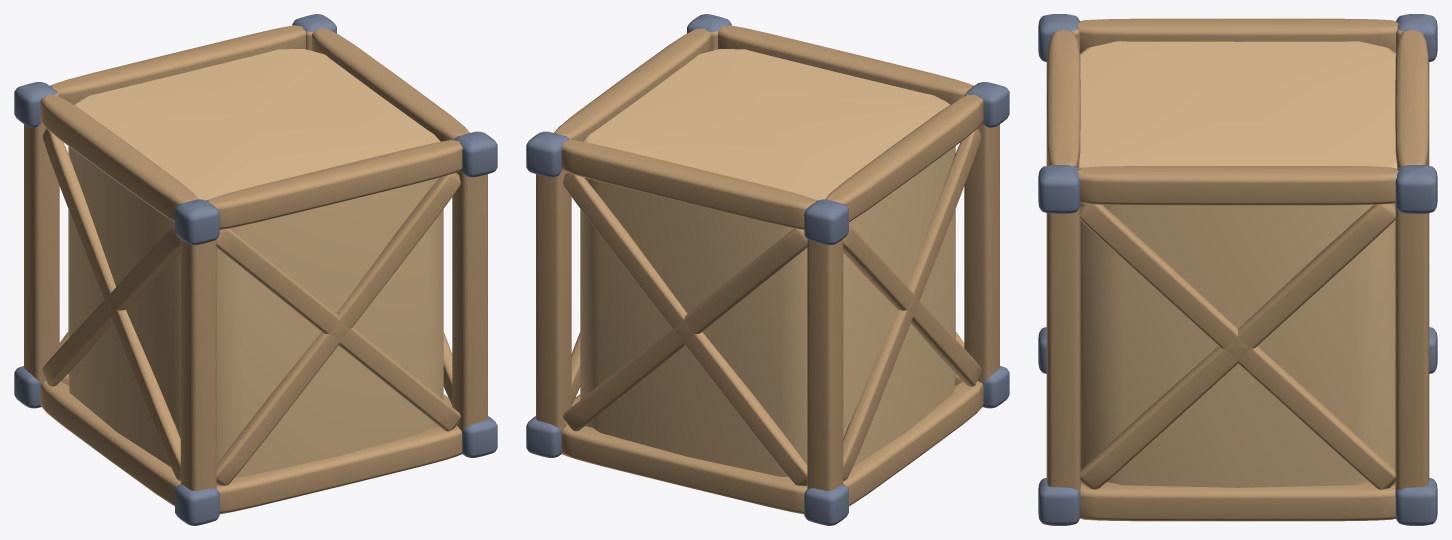
The model's file is tactical_crate.glb.
3 views of the same model, side by side, from view 1: azimuth 30°, elevation 25°; view 2: azimuth 150°, elevation 25°; view 3: azimuth 270°, elevation 25° (orthographic). The views are drawn at different scales.
Parts seen in each view (by area): view 1: Mesh_Crate; view 2: Mesh_Crate; view 3: Mesh_Crate.
Part boxes in pixels (bbox=[...]): Mesh_Crate: bbox=[14, 14, 497, 525]; Mesh_Crate: bbox=[526, 14, 1009, 525]; Mesh_Crate: bbox=[1038, 14, 1437, 525].
Size of the model in its own units: 1.88 by 1.82 by 1.88.
